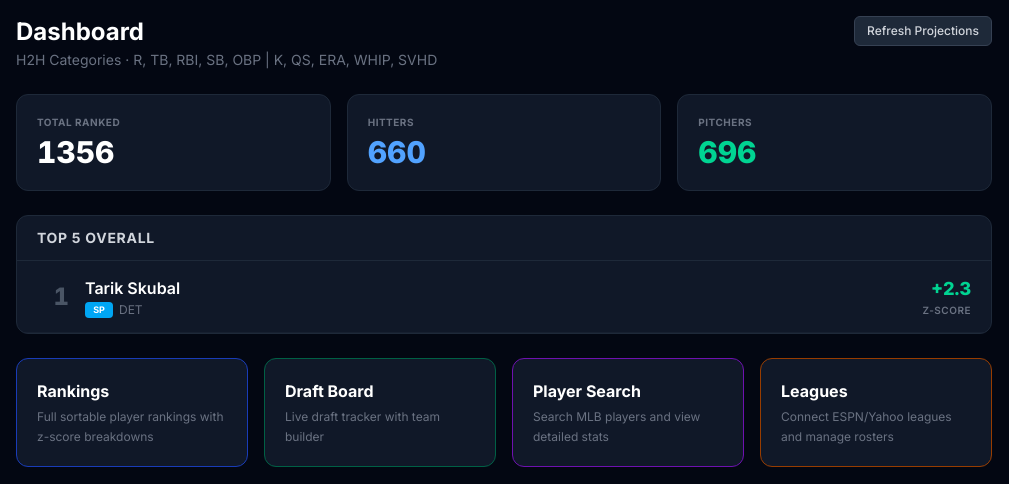
Test: Dashboard › refreshes projections and reports how many players were updated
Click the button "Refresh Projections" at (923, 31), box [854,16,992,46]
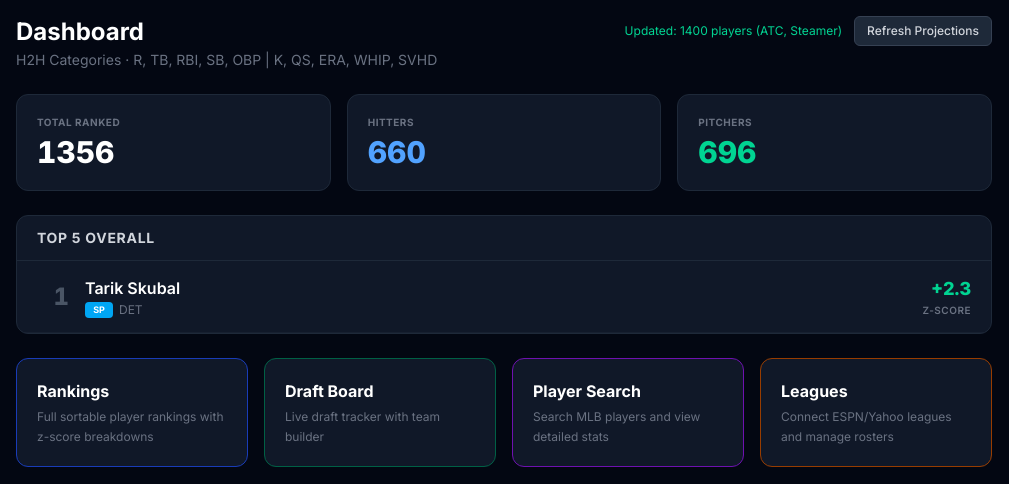
Expected: the text "Updated: 1400 players (ATC, Steamer)" is shown, [625,23,842,39]
